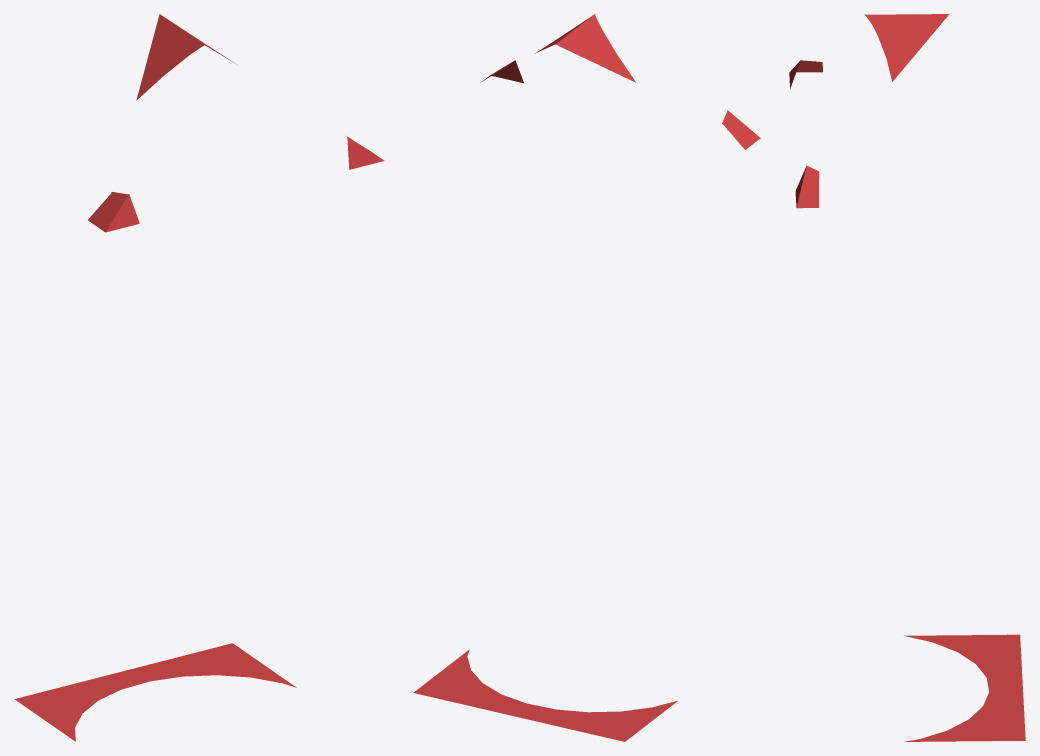
3 renders of one model, left to right at view 1: azimuth 30°, elevation 25°; view 2: azimuth 150°, elevation 25°; view 3: azimuth 270°, elevation 25°, orthographic. The views are drawn at different scales.
Bounding box in the file's own units: 9.19 × 6.75 × 21.21.
